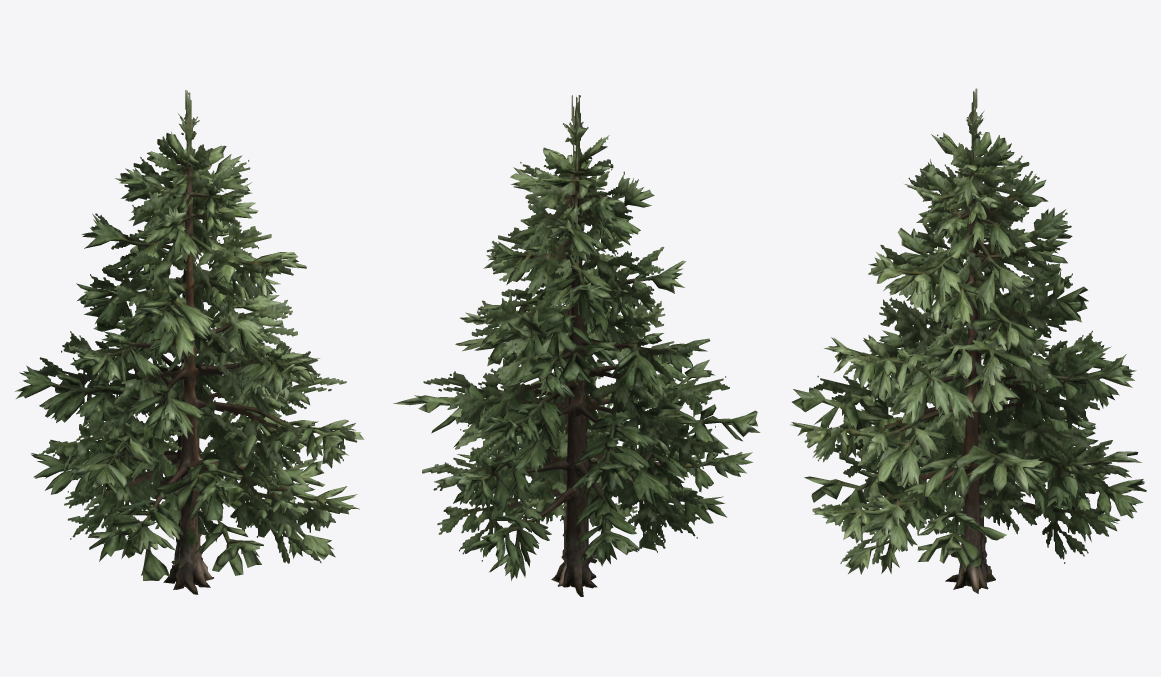
The model's file is tree-fir.glb.
The picture shows the model from 3 angles, left to right: view 1: azimuth 30°, elevation 25°; view 2: azimuth 150°, elevation 25°; view 3: azimuth 270°, elevation 25°; orthographic projection.
Parts seen in each view (by area): view 1: tripo_node_9c8658ab-a991-4184-8214-481f32a3bee0, Tree impostor source; view 2: tripo_node_9c8658ab-a991-4184-8214-481f32a3bee0, Tree impostor source; view 3: tripo_node_9c8658ab-a991-4184-8214-481f32a3bee0, Tree impostor source.
Boxes of the visible parts, x1,y1,x2,y2 form: tripo_node_9c8658ab-a991-4184-8214-481f32a3bee0: [15, 90, 364, 594]; Tree impostor source: [33, 90, 357, 589]; tripo_node_9c8658ab-a991-4184-8214-481f32a3bee0: [393, 97, 760, 596]; Tree impostor source: [422, 95, 729, 588]; tripo_node_9c8658ab-a991-4184-8214-481f32a3bee0: [790, 89, 1146, 593]; Tree impostor source: [804, 88, 1131, 589].
Size of the model in its own units: 0.6483 by 0.9866 by 0.6432.
Materials: 2 (2 with a texture image).
